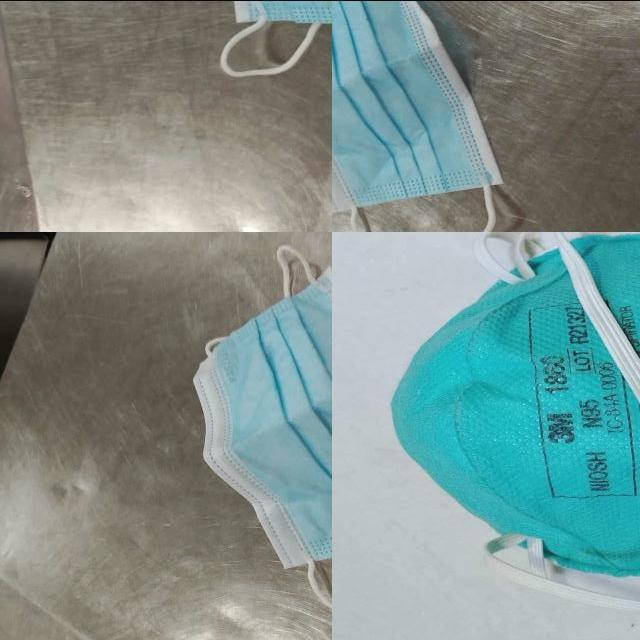General: (388, 231, 638, 580), (190, 257, 333, 573)
